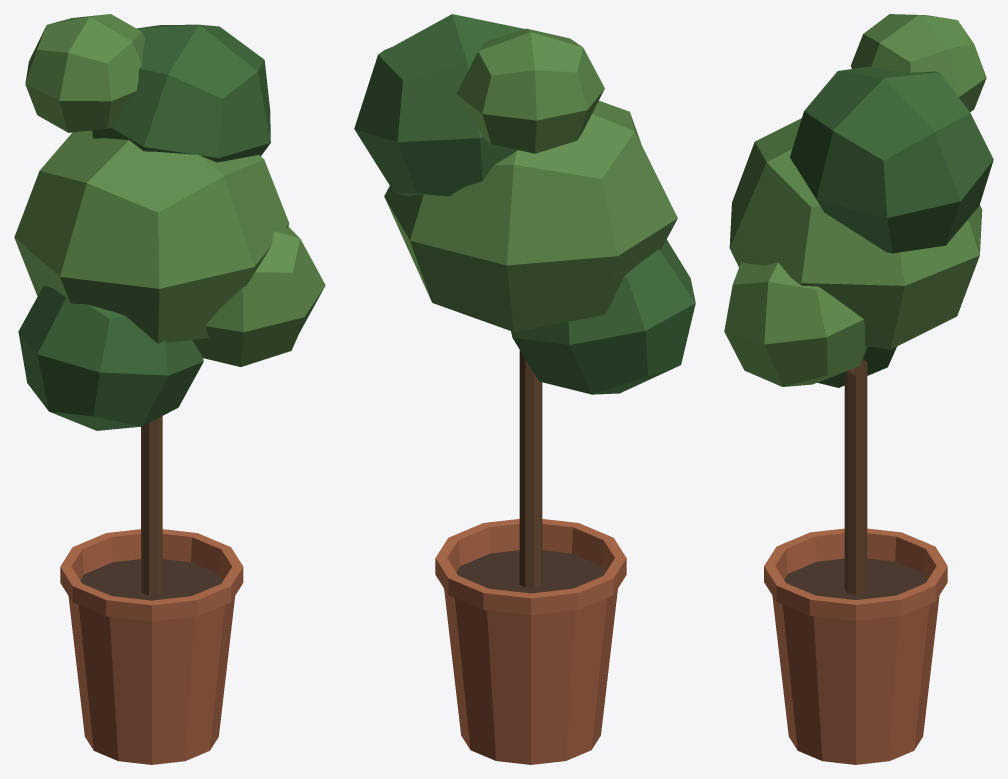
Rendered from Planta.fbx.
3 renders of one model, left to right at view 1: azimuth 30°, elevation 25°; view 2: azimuth 150°, elevation 25°; view 3: azimuth 270°, elevation 25°, orthographic. The views are drawn at different scales.
Visible parts, largest first — view 1: Deco_Planta_Grande; view 2: Deco_Planta_Grande; view 3: Deco_Planta_Grande.
Boxes of the visible parts, left/top/right/bottom form: Deco_Planta_Grande: left=14, top=14, right=325, bottom=764; Deco_Planta_Grande: left=354, top=14, right=695, bottom=764; Deco_Planta_Grande: left=724, top=14, right=993, bottom=764.
Bounding box in the file's own units: 0.6981 × 1.74 × 0.6015.
